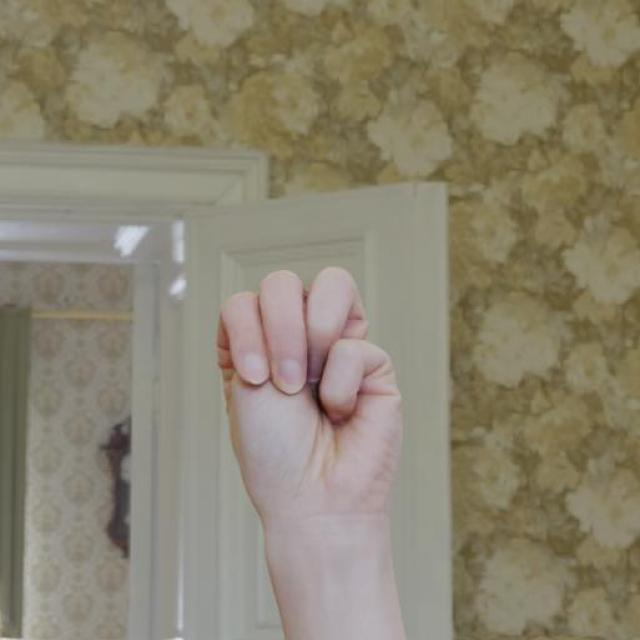M: (212, 262, 408, 552)
